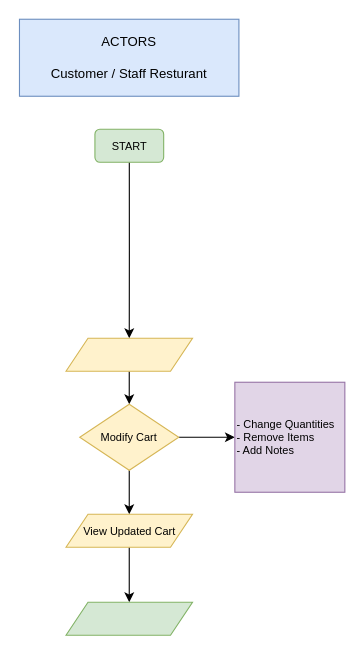
Image size: 364x655. Some labels were removed from this diagram. Here are the shapes that lost their labels. From the top down, the centre of each, then its label:
At (129,354): "View Cart".
At (129,618): "END".
